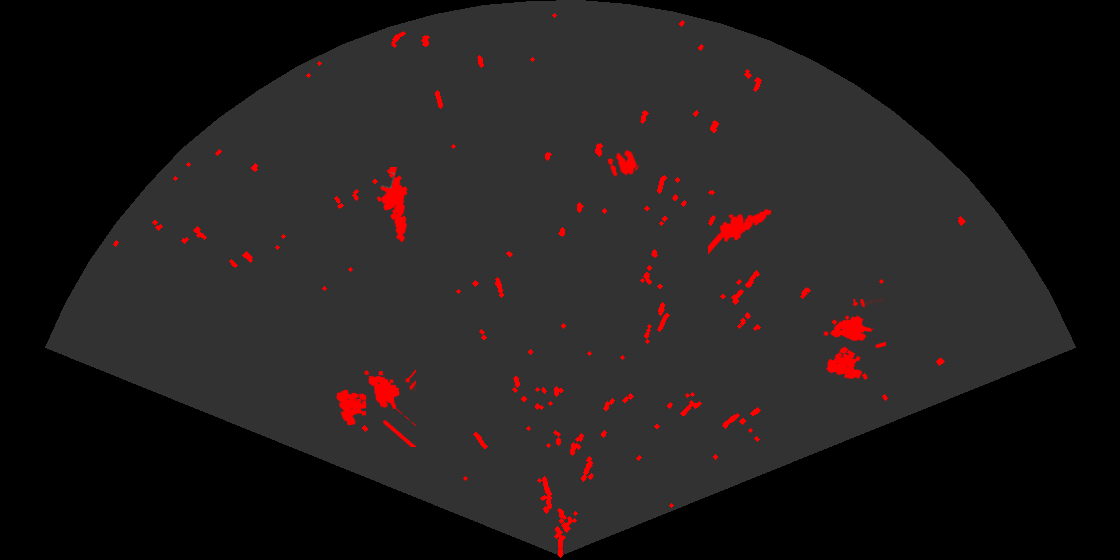ball: (606, 148, 639, 178)
cage: (335, 368, 416, 447), (822, 299, 886, 381)
frogman: (708, 207, 773, 255), (375, 167, 409, 244)
